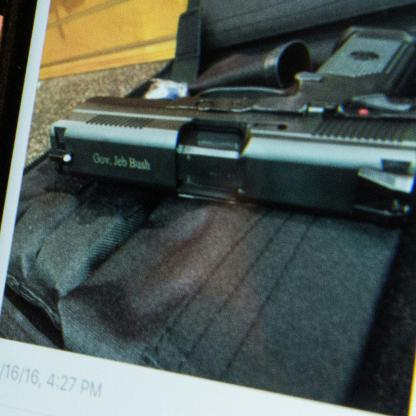gun: (38, 3, 416, 238)
